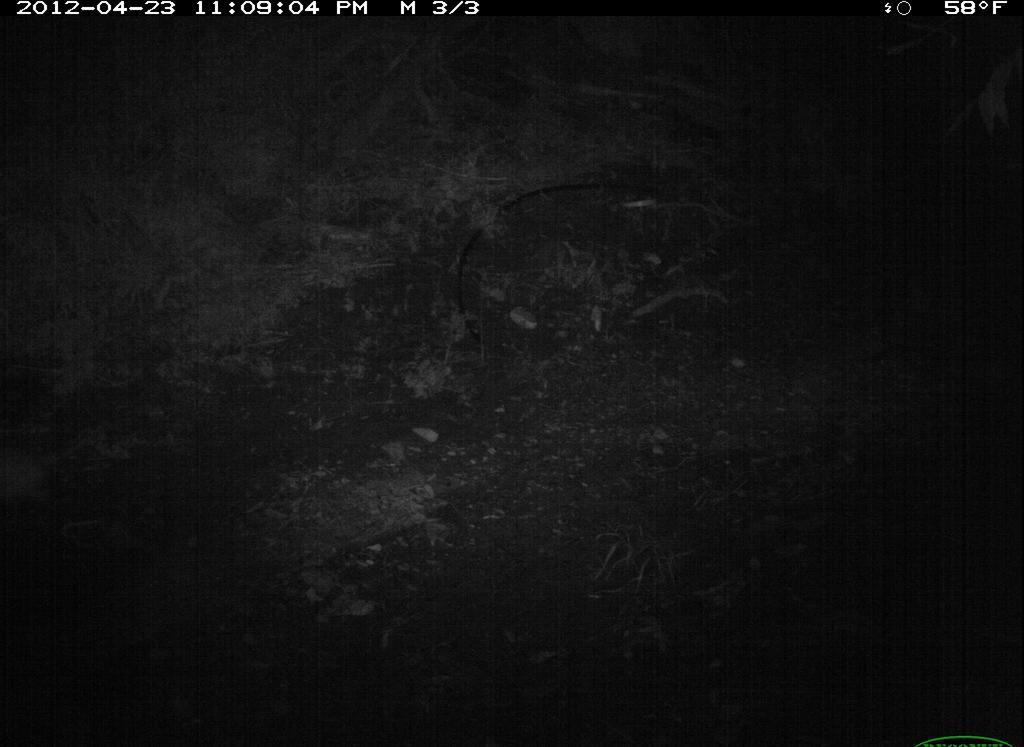opossum: (1, 422, 96, 527)
